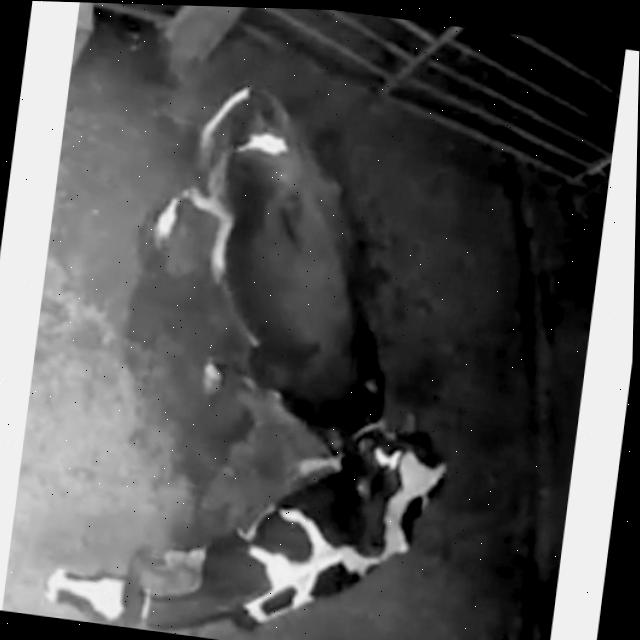propping: (287, 383, 451, 585)
